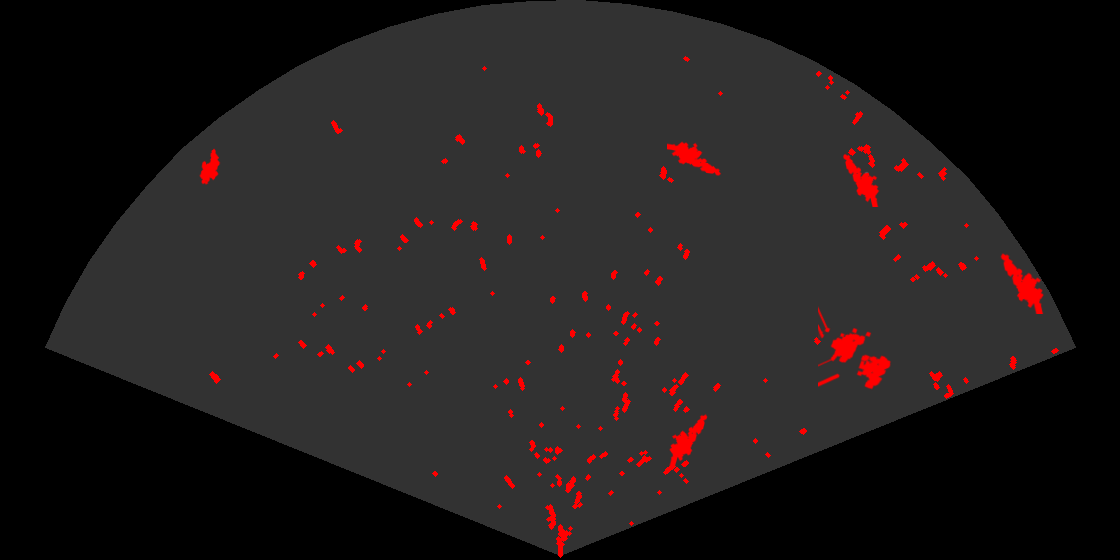AUV: (198, 147, 222, 186)
cage: (818, 306, 893, 391)
frogman: (999, 251, 1045, 314), (668, 412, 709, 466), (842, 152, 881, 207), (667, 140, 723, 177)
